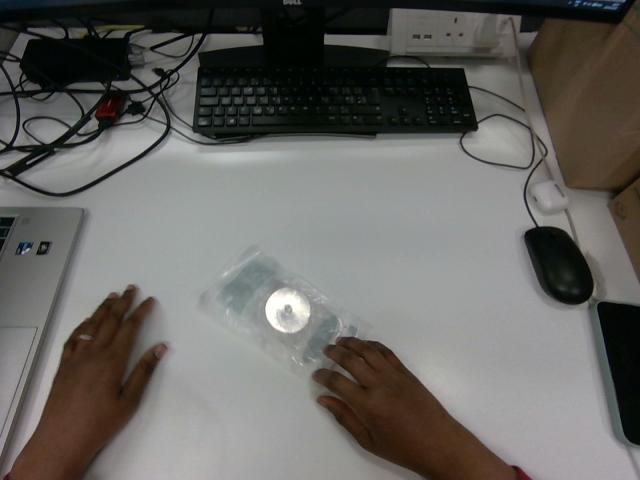gallipot: (201, 247, 366, 375)
